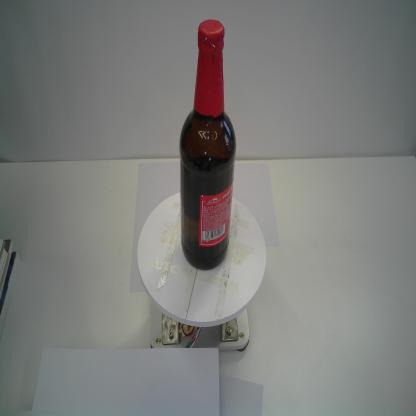Alcohol: (176, 16, 238, 274)
